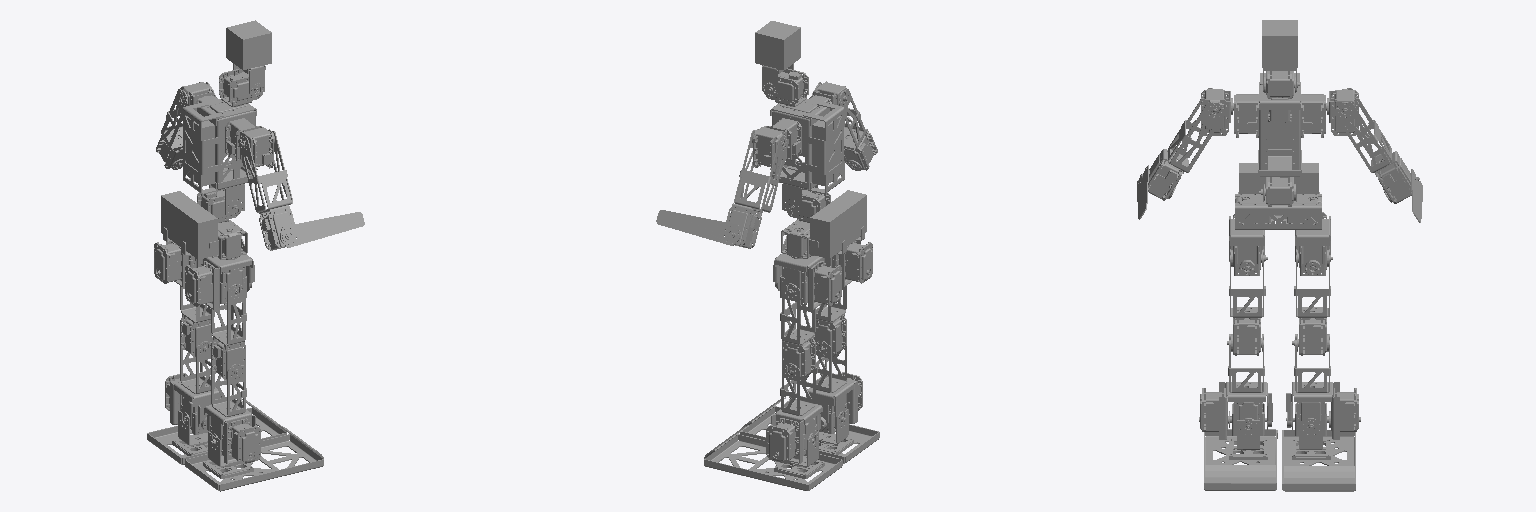
URDF robot description (elvis):
<?xml version="1.0"?>
<robot name="elvis">

<!--///////////////////////////////////BEIN L/////////////////////////////////////////////////////// -->
<link name="base_link"/>
<joint name="base_link_to_humanoid_joint" type="fixed">
	<parent link="base_link"/>
	<child link="fuss_l_link"/>
</joint>
	<link name="fuss_l_link">
 		<visual>
			<geometry>
				<mesh filename="package://elvis/stl/t3_joint_fusskontakt_l_m.stl"/>
			</geometry>
			<origin rpy="0 0 0" xyz="0 0 0"/>
			<material name="grey">
				<color rgba="0.67 0.67 0.67 1"/>
			</material>
		</visual>
			
	</link>
	<link name="kardan2_l_link">
 		<visual>
			<geometry>
				<mesh filename="package://elvis/stl/t3_kardan2_m.stl"/>
			</geometry>
			<origin rpy="0 0 0" xyz="0 0 0"/>
			<material name="grey">
				<color rgba="0.67 0.67 0.67 1"/>
			</material>
		</visual>
	</link>
	<joint name="m16" type="revolute">
		<parent link="fuss_l_link"/>
		<child link="kardan2_l_link"/>
		<origin xyz="0.0 0.0 0.046" rpy="0 0 0"/>
		<axis xyz="1 0 0"/>
		<limit effort="1000.0" lower="-0.548" upper="0.548" velocity="0.5"/>
	</joint>
	<link name="unterschenkel_l_link">
 		<visual>
			<geometry>
				<mesh filename="package://elvis/stl/t3_unterschenkel_l_m.stl"/>
			</geometry>
			<origin rpy="0 0 0" xyz="0 0 0"/>
			<material name="grey">
				<color rgba="0.67 0.67 0.67 1"/>
			</material>
		</visual>
	</link>
	<joint name="m15" type="revolute">
		<parent link="kardan2_l_link"/>
		<child link="unterschenkel_l_link"/>
		<origin xyz="0.0 0.0 0.0" rpy="0 0 0"/>
		<axis xyz="0 1 0"/>
		<limit effort="1000.0" lower="-0.548" upper="0.548" velocity="0.5"/>
	</joint>
	<link name="oberschenkel_l_link">
 		<visual>
			<geometry>
				<mesh filename="package://elvis/stl/t3_oberschenkel_l_m.stl"/>
			</geometry>
			<origin rpy="0 0 0" xyz="0 0 0"/>
			<material name="grey">
				<color rgba="0.67 0.67 0.67 1"/>
			</material>
		</visual>
	</link>
	<joint name="m14" type="revolute">
		<parent link="unterschenkel_l_link"/>
		<child link="oberschenkel_l_link"/>
		<origin xyz="0.0 0.0022 0.107" rpy="0 0 0"/>
		<axis xyz="0 1 0"/>
		<limit effort="1000.0" lower="-0.548" upper="0.548" velocity="0.5"/>
	</joint>
	<link name="kardan2_oben_l_link">
 		<visual>
			<geometry>
				<mesh filename="package://elvis/stl/t3_kardan2_m.stl"/>
			</geometry>
			<origin rpy="0 0 0" xyz="0 0 0"/>
			<material name="grey">
				<color rgba="0.67 0.67 0.67 1"/>
			</material>
		</visual>
	</link>
	<joint name="m12" type="revolute">
		<parent link="oberschenkel_l_link"/>
		<child link="kardan2_oben_l_link"/>
		<origin xyz="0.0 0.0 0.118" rpy="0 0 1.57"/>
		<axis xyz="-1 0 0"/>
		<limit effort="1000.0" lower="-0.548" upper="0.548" velocity="0.5"/>
	</joint>
	<link name="kardan1_l_link">
 		<visual>
			<geometry>
				<mesh filename="package://elvis/stl/t4_kardan1_m.stl"/>
			</geometry>
			<origin rpy="0 0 0" xyz="0 0 0"/>
			<material name="grey">
				<color rgba="0.67 0.67 0.67 1"/>
			</material>
		</visual>
	</link>
	<joint name="m13" type="revolute">
		<parent link="kardan2_oben_l_link"/>
		<child link="kardan1_l_link"/>
		<origin xyz="0.0 0.0 0.0" rpy="0 0 -1.57"/>
		<axis xyz="1 0 0"/>
		<limit effort="1000.0" lower="-0.548" upper="0.548" velocity="0.5"/>
	</joint>
<!--///////////////////////////////////BEIN L ENDE/////////////////////////////////////////////////////// -->

<!--///////////////////////////////////BECKEN /////////////////////////////////////////////////////////// -->
	<link name="becken_link">
 		<visual>
			<geometry>
				<mesh filename="package://elvis/stl/t2_becken.stl"/>
			</geometry>
			<origin rpy="0 0 0" xyz="0 0 0"/>
			<material name="grey">
				<color rgba="0.67 0.67 0.67 1"/>
			</material>
		</visual>
	</link>
	<joint name="m11" type="revolute">
		<parent link="kardan1_l_link"/>
		<child link="becken_link"/>
		<origin xyz="0.0 0.0 0.065" rpy="0 0 0"/>
		<axis xyz="0 0 1"/>
		<limit effort="1000.0" lower="-0.548" upper="0.548" velocity="0.5"/>
	</joint>
<!--///////////////////////////////////BEIN R/////////////////////////////////////////////////////// -->
<link name="kardan1_r_link">
 		<visual>
			<geometry>
				<mesh filename="package://elvis/stl/t4_kardan1_m.stl"/>
			</geometry>
			<origin rpy="0 0 0" xyz="0 0 0"/>
			<material name="grey">
				<color rgba="0.67 0.67 0.67 1"/>
			</material>
		</visual>
	</link>
	<joint name="m21" type="revolute">
		<parent link="becken_link"/>
		<child link="kardan1_r_link"/>
		<origin xyz="0.0 -0.083 -0.065" rpy="0 0 0"/>
		<axis xyz="0 0 1"/>
		<limit effort="1000.0" lower="-0.548" upper="0.548" velocity="0.5"/>
	</joint>
	<link name="kardan2_oben_r_link">
 		<visual>
			<geometry>
				<mesh filename="package://elvis/stl/t3_kardan2_m.stl"/>
			</geometry>
			<origin rpy="0 0 0" xyz="0 0 0"/>
			<material name="grey">
				<color rgba="0.67 0.67 0.67 1"/>
			</material>
		</visual>
	</link>
	<joint name="m23" type="revolute">
		<parent link="kardan1_r_link"/>
		<child link="kardan2_oben_r_link"/>
		<origin xyz="0.0 0.0 -0.0" rpy="0 0 1.57"/>
		<axis xyz="0 1 0"/>
		<limit effort="1000.0" lower="-0.548" upper="0.548" velocity="0.5"/>
	</joint>
	<link name="oberschenkel_r_link">
 		<visual>
			<geometry>
				<mesh filename="package://elvis/stl/t3_oberschenkel_r.stl"/>
			</geometry>
			<origin rpy="0 0 0" xyz="0 0 0"/>
			<material name="grey">
				<color rgba="0.67 0.67 0.67 1"/>
			</material>
		</visual>
	</link>
	<joint name="m22" type="revolute">
		<parent link="kardan2_oben_r_link"/>
		<child link="oberschenkel_r_link"/>
		<origin xyz="0.0 0.0 0.0" rpy="0 0 -1.57"/>
		<axis xyz="0 1 0"/>
		<limit effort="1000.0" lower="-0.548" upper="0.548" velocity="0.5"/>
	</joint>
	<link name="unterschenkel_r_link">
 		<visual>
			<geometry>
				<mesh filename="package://elvis/stl/t3_unterschenkel_r_neu.stl"/>
			</geometry>
			<origin rpy="0 0 0" xyz="0 0 0"/>
			<material name="grey">
				<color rgba="0.67 0.67 0.67 1"/>
			</material>
		</visual>
	</link>
	<joint name="m24" type="revolute">
		<parent link="oberschenkel_r_link"/>
		<child link="unterschenkel_r_link"/>
		<origin xyz="0.0 0.0 -0.118" rpy="0 0 0"/>
		<axis xyz="0 1 0"/>
		<limit effort="1000.0" lower="-0.548" upper="0.548" velocity="0.5"/>
	</joint>
	<link name="kardan2_r_link">
 		<visual>
			<geometry>
				<mesh filename="package://elvis/stl/t3_kardan2_m.stl"/>
			</geometry>
			<origin rpy="0 0 0" xyz="0 0 0"/>
			<material name="grey">
				<color rgba="0.67 0.67 0.67 1"/>
			</material>
		</visual>
	</link>
	<joint name="m25" type="revolute">
		<parent link="unterschenkel_r_link"/>
		<child link="kardan2_r_link"/>
		<origin xyz="0.00 0.0016 -0.107" rpy="0 0 3.14"/>
		<axis xyz="0 -1 0"/>
		<limit effort="1000.0" lower="-0.548" upper="0.548" velocity="0.5"/>
	</joint>
	<link name="fuss_r_link">
 		<visual>
			<geometry>
				<mesh filename="package://elvis/stl/t3_joint_fusskontakt_r_neu_m.stl"/>
			</geometry>
			<origin rpy="0 0 0" xyz="0 0 0"/>
			<material name="grey">
				<color rgba="0.67 0.67 0.67 1"/>
			</material>
		</visual>
	</link>
	<joint name="m26" type="revolute">
		<parent link="kardan2_r_link"/>
		<child link="fuss_r_link"/>
		<origin xyz="0.0 0.0 0.0" rpy="0 0 3.14"/>
		<axis xyz="-1 0 0"/>
		<limit effort="1000.0" lower="-0.548" upper="0.548" velocity="0.5"/>
	</joint>
<!--///////////////////////////////////BEIN R ENDE/////////////////////////////////////////////////////// -->
<!--///////////////////////////////////RUMPF/////////////////////////////////////////////////////// -->
	<link name="rumpf_link">
 		<visual>
			<geometry>
				<mesh filename="package://elvis/stl/t2_rumpf_m.stl"/>
			</geometry>
			<origin rpy="0 0 0" xyz="0 0 0"/>
			<material name="grey">
				<color rgba="0.67 0.67 0.67 1"/>
			</material>
		</visual>
	</link>
	<joint name="m51" type="revolute">
		<parent link="becken_link"/>
		<child link="rumpf_link"/>
		<origin xyz="0.0218 -0.0415 0.039" rpy="0 0 0"/>
		<axis xyz="0 1 0"/>
		<limit effort="1000.0" lower="-0.548" upper="0.548" velocity="0.5"/>
	</joint>
<!--///////////////////////////////////RUMPF ENDE/////////////////////////////////////////////////////// -->
<!--///////////////////////////////////KOPF/////////////////////////////////////////////////////// -->
	<link name="hals_link">
 		<visual>
			<geometry>
				<mesh filename="package://elvis/stl/t3_hals_neu.stl"/>
			</geometry>
			<origin rpy="0 0 0" xyz="0 0 0"/>
			<material name="grey">
				<color rgba="0.67 0.67 0.67 1"/>
			</material>
		</visual>
	</link>
	<joint name="m61" type="revolute">
		<parent link="rumpf_link"/>
		<child link="hals_link"/>
		<origin xyz="0.0143 0.0 0.1640" rpy="0 0 0"/>
		<axis xyz="0 0 1"/>
		<limit effort="1000.0" lower="-0.548" upper="0.548" velocity="0.5"/>
	</joint>
	<link name="kopf_link">
 		<visual>
			<geometry>
				<mesh filename="package://elvis/stl/t3_kopf_m.stl"/>
			</geometry>
			<origin rpy="0 0 0" xyz="0 0 0"/>
			<material name="grey">
				<color rgba="0.67 0.67 0.67 1"/>
			</material>
		</visual>
	</link>
	<joint name="m62" type="revolute">
		<parent link="hals_link"/>
		<child link="kopf_link"/>
		<origin xyz="0.020 0.0 0.0" rpy="0 0 0"/>
		<axis xyz="0 1 0"/>
		<limit effort="1000.0" lower="-0.548" upper="0.548" velocity="0.5"/>
	</joint>


<!--///////////////////////////////////KOPF ENDE/////////////////////////////////////////////////////// -->
<!--///////////////////////////////////ARM L/////////////////////////////////////////////////////// -->
	<link name="schulter_l_link">
 		<visual>
			<geometry>
				<mesh filename="package://elvis/stl/t3_arm_ober_roll_m.stl"/>
			</geometry>
			<origin rpy="0 0 0" xyz="0 0 0"/>
			<material name="grey">
				<color rgba="0.67 0.67 0.67 1"/>
			</material>
		</visual>
	</link>
	<joint name="m31" type="revolute">
		<parent link="rumpf_link"/>
		<child link="schulter_l_link"/>
		<origin xyz="0.0 0.082 0.1217" rpy="0 0 3.14"/>
		<axis xyz="0 -1 0"/>
		<limit effort="1000.0" lower="-0.548" upper="0.548" velocity="0.5"/>
	</joint>
	<link name="ellenb_l_link">
 		<visual>
			<geometry>
				<mesh filename="package://elvis/stl/t3_arm_ellenb_r_m.stl"/>
			</geometry>
			<origin rpy="0 0 0" xyz="0 0 0"/>
			<material name="grey">
				<color rgba="0.67 0.67 0.67 1"/>
			</material>
		</visual>
	</link>
	<joint name="m32" type="revolute">
		<parent link="schulter_l_link"/>
		<child link="ellenb_l_link"/>
		<origin xyz="0.0 0.0 0.0" rpy="-0.52 0 0"/>
		<axis xyz="1 0 0"/>
		<limit effort="1000.0" lower="-0.548" upper="0.548" velocity="0.5"/>
	</joint>
	<link name="unterarm_l_link">
 		<visual>
			<geometry>
				<mesh filename="package://elvis/stl/t3_unterarm_m.stl"/>
			</geometry>
			<origin rpy="0 0 0" xyz="0 0 0"/>
			<material name="grey">
				<color rgba="0.67 0.67 0.67 1"/>
			</material>
		</visual>
	</link>
	<joint name="m33" type="revolute">
		<parent link="ellenb_l_link"/>
		<child link="unterarm_l_link"/>
		<origin xyz="-0.005 -0.027 -0.135" rpy="0 -1.57 3.14"/>
		<axis xyz="0 1 0"/>
		<limit effort="1000.0" lower="-0.548" upper="0.548" velocity="0.5"/>
	</joint>
<!--///////////////////////////////////ARM L ENDE/////////////////////////////////////////////////////// -->
<!--///////////////////////////////////ARM R/////////////////////////////////////////////////////// -->
<link name="schulter_r_link">
 		<visual>
			<geometry>
				<mesh filename="package://elvis/stl/t3_arm_ober_roll_m.stl"/>
			</geometry>
			<origin rpy="0 0 0" xyz="0 0 0"/>
			<material name="grey">
				<color rgba="0.67 0.67 0.67 1"/>
			</material>
		</visual>
	</link>
	<joint name="m41" type="revolute">
		<parent link="rumpf_link"/>
		<child link="schulter_r_link"/>
		<origin xyz="0.0 -0.082 0.1217" rpy="0 0 0"/>
		<axis xyz="0 -1 0"/>
		<limit effort="1000.0" lower="-0.548" upper="0.548" velocity="0.5"/>
	</joint>
	<link name="ellenb_r_link">
 		<visual>
			<geometry>
				<mesh filename="package://elvis/stl/t3_arm_ellenb_r_m.stl"/>
			</geometry>
			<origin rpy="0 0 0" xyz="0 0 0"/>
			<material name="grey">
				<color rgba="0.67 0.67 0.67 1"/>
			</material>
		</visual>
	</link>
	<joint name="m42" type="revolute">
		<parent link="schulter_r_link"/>
		<child link="ellenb_r_link"/>
		<origin xyz="0.0 0.0 0.0" rpy="-0.52 0 0"/>
		<axis xyz="-1 0 0"/>
		<limit effort="1000.0" lower="-0.548" upper="0.548" velocity="0.5"/>
	</joint>
	<link name="unterarm_r_link">
 		<visual>
			<geometry>
				<mesh filename="package://elvis/stl/t3_unterarm_m.stl"/>
			</geometry>
			<origin rpy="0 0 0" xyz="0 0 0"/>
			<material name="grey">
				<color rgba="0.67 0.67 0.67 1"/>
			</material>
		</visual>
	</link>
	<joint name="m43" type="revolute">
		<parent link="ellenb_r_link"/>
		<child link="unterarm_r_link"/>
		<origin xyz="-0.005 -0.027 -0.135" rpy="0 1.57 3.14"/>
		<axis xyz="0 1 0"/>
		<limit effort="1000.0" lower="-0.548" upper="0.548" velocity="0.5"/>
	</joint>
<!--///////////////////////////////////ARM R ENDE/////////////////////////////////////////////////////// -->

</robot>

--- Render facts (derived) ---
Views: 3 orthographic renders of the robot side by side, from view 1: azimuth 30°, elevation 25°; view 2: azimuth 150°, elevation 25°; view 3: azimuth 270°, elevation 25°.
Robot: elvis — 23 links, 22 joints (21 revolute, 1 fixed); root link base_link; default pose: all joints at 0.
Links seen in each view (by area): view 1: rumpf_link, becken_link, fuss_r_link, unterschenkel_r_link, ellenb_r_link, oberschenkel_r_link, unterschenkel_l_link, kopf_link, fuss_l_link, kardan1_r_link, oberschenkel_l_link, unterarm_r_link (+5 smaller); view 2: rumpf_link, becken_link, fuss_l_link, unterschenkel_l_link, ellenb_l_link, oberschenkel_l_link, unterschenkel_r_link, kopf_link, fuss_r_link, kardan1_l_link, ellenb_r_link, oberschenkel_r_link (+5 smaller); view 3: rumpf_link, becken_link, fuss_l_link, fuss_r_link, ellenb_l_link, ellenb_r_link, unterschenkel_l_link, unterschenkel_r_link, oberschenkel_l_link, oberschenkel_r_link, kopf_link, kardan1_l_link (+6 smaller).
Boxes of the visible links, bbox=[...] form: rumpf_link: bbox=[183, 95, 256, 214]; becken_link: bbox=[161, 188, 247, 259]; fuss_r_link: bbox=[185, 425, 323, 491]; unterschenkel_r_link: bbox=[204, 365, 260, 464]; ellenb_r_link: bbox=[238, 131, 294, 250]; oberschenkel_r_link: bbox=[211, 285, 246, 380]; unterschenkel_l_link: bbox=[165, 342, 220, 432]; kopf_link: bbox=[226, 20, 271, 94]; fuss_l_link: bbox=[147, 399, 286, 464]; kardan1_r_link: bbox=[185, 254, 254, 309]; oberschenkel_l_link: bbox=[180, 267, 214, 357]; unterarm_r_link: bbox=[281, 212, 364, 247]; rumpf_link: bbox=[770, 95, 844, 214]; becken_link: bbox=[781, 188, 866, 258]; fuss_l_link: bbox=[704, 425, 842, 490]; unterschenkel_l_link: bbox=[766, 365, 822, 463]; ellenb_l_link: bbox=[726, 130, 788, 248]; oberschenkel_l_link: bbox=[780, 285, 815, 379]; unterschenkel_r_link: bbox=[806, 342, 862, 431]; kopf_link: bbox=[755, 21, 800, 94]; fuss_r_link: bbox=[740, 397, 879, 463]; kardan1_l_link: bbox=[773, 253, 841, 309]; ellenb_r_link: bbox=[811, 82, 877, 170]; oberschenkel_r_link: bbox=[814, 266, 846, 356]; rumpf_link: bbox=[1231, 73, 1328, 201]; becken_link: bbox=[1235, 163, 1321, 229]; fuss_l_link: bbox=[1282, 421, 1355, 491]; fuss_r_link: bbox=[1204, 420, 1277, 490]; ellenb_l_link: bbox=[1334, 88, 1419, 203]; ellenb_r_link: bbox=[1140, 88, 1225, 200]; unterschenkel_l_link: bbox=[1286, 334, 1360, 439]; unterschenkel_r_link: bbox=[1199, 334, 1272, 439]; oberschenkel_l_link: bbox=[1292, 249, 1330, 355]; oberschenkel_r_link: bbox=[1227, 249, 1265, 355]; kopf_link: bbox=[1262, 20, 1297, 91]; kardan1_l_link: bbox=[1295, 212, 1330, 275].
Size in the robot's own frame: 0.2032 by 0.3623 by 0.6192 metres.
Meshes: 15 distinct files referenced, 22 mesh visuals loaded (15 binary STL).
